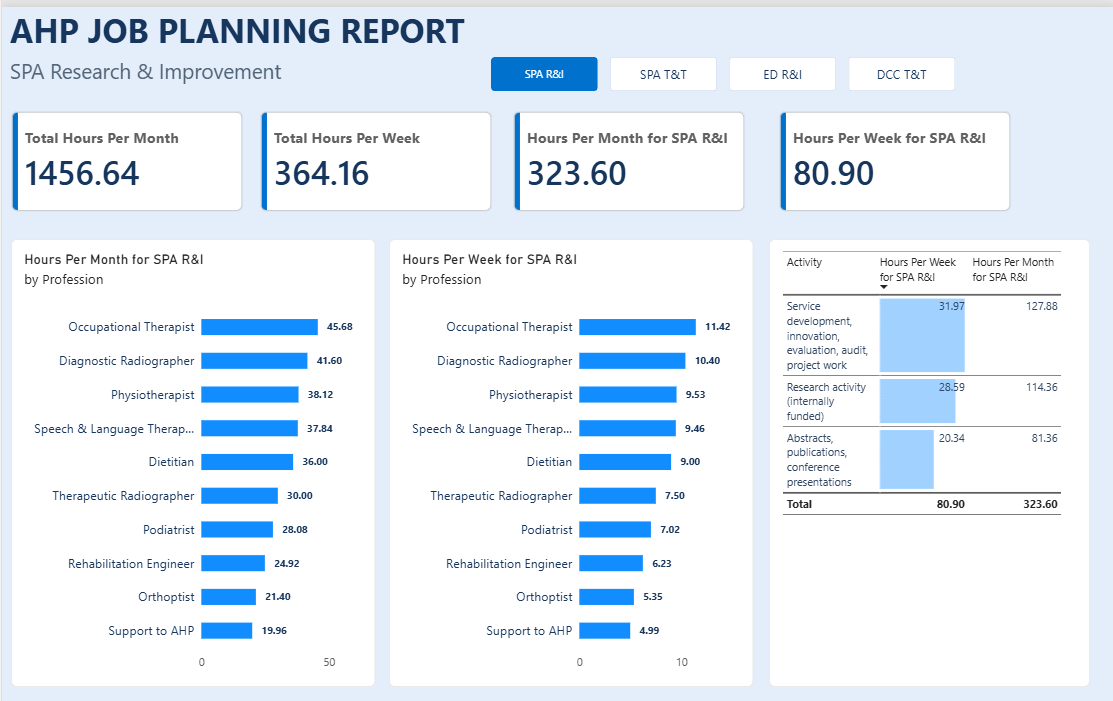

This screenshot's page, from the dashboard's own definition file:
{"tool":"powerbi","page":{"name":"SPA R&I","canvas":[1440,900],"ordinal":0},"visuals":[{"type":"textbox","box":[10.3,0,595.9,78.9],"z":0},{"type":"textbox","box":[10,526,345,281],"z":1000},{"type":"textbox","box":[10.3,64.6,471.8,54.3],"z":2000},{"type":"pageNavigator","box":[632.1,64.6,600,44],"z":3000},{"type":"cardVisual","fields":{"Data":["Measure.Total Hours Per Month"]},"box":[11.6,134.4,300,130],"z":4000},{"type":"cardVisual","fields":{"Data":["Measure.Total Hours Per Week"]},"box":[333.5,134.4,300,130],"z":5000},{"type":"cardVisual","fields":{"Data":["Measure.Hours Per Month for SPA R&I"]},"box":[660.5,134.4,300,130],"z":6000},{"type":"cardVisual","fields":{"Data":["Measure.Hours Per Week for SPA R&I"]},"box":[1004.4,134.4,300,130],"z":7000},{"type":"clusteredBarChart","title":"Hours Per Month for SPA R&I ","fields":{"Category":["Dim_Profession.Position Title"],"Y":["Measure.Hours Per Month for SPA R&I"]},"box":[11.6,299.9,470.5,579.1],"z":8000},{"type":"tableEx","fields":{"Values":["Fact_Activity.Activity","Measure.Hours Per Week for SPA R&I","Measure.Hours Per Month for SPA R&I"]},"box":[991.5,299.9,414.9,579.1],"z":9000},{"type":"clusteredBarChart","title":"Hours Per Week for SPA R&I ","fields":{"Category":["Dim_Profession.Position Title"],"Y":["Measure.Hours Per Week for SPA R&I"]},"box":[500.3,299.9,470.5,579.1],"z":10000}]}

Visuals, with their boxes in screenshot pixels (x1, y1, x2, y2), scaled from the page's 1440x900 canvas onto the 1113x701 screenshot:
textbox: 8 0 469 61
textbox: 8 410 274 629
textbox: 8 50 373 93
pageNavigator: 489 50 952 85
cardVisual - Measure.Total Hours Per Month: 9 105 241 206
cardVisual - Measure.Total Hours Per Week: 258 105 490 206
cardVisual - Measure.Hours Per Month for SPA R&I: 511 105 742 206
cardVisual - Measure.Hours Per Week for SPA R&I: 776 105 1008 206
"Hours Per Month for SPA R&I " clusteredBarChart: 9 234 373 685
tableEx - Fact_Activity.Activity x Measure.Hours Per Week for SPA R&I: 766 234 1087 685
"Hours Per Week for SPA R&I " clusteredBarChart: 387 234 750 685
